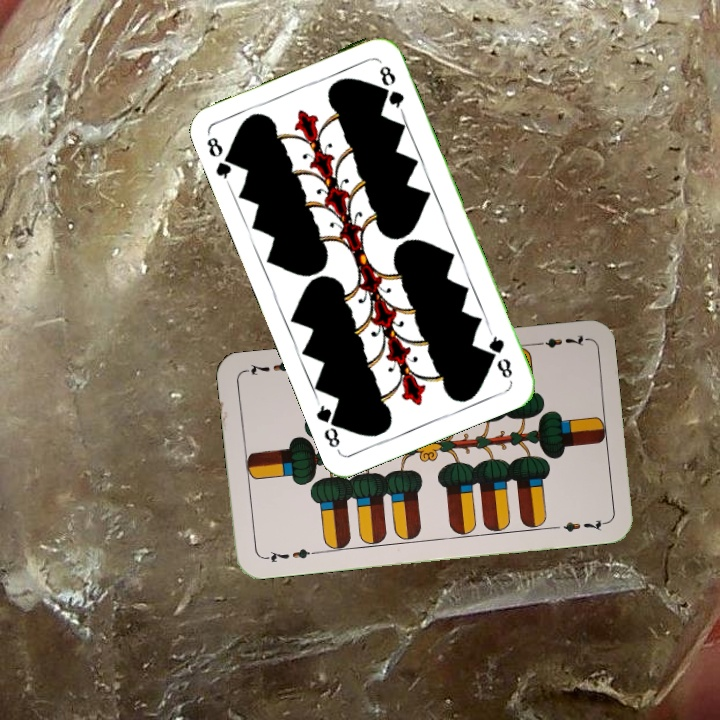E7: (260, 544, 319, 565), (529, 330, 588, 350)
G8: (202, 133, 239, 185), (484, 327, 515, 381)
